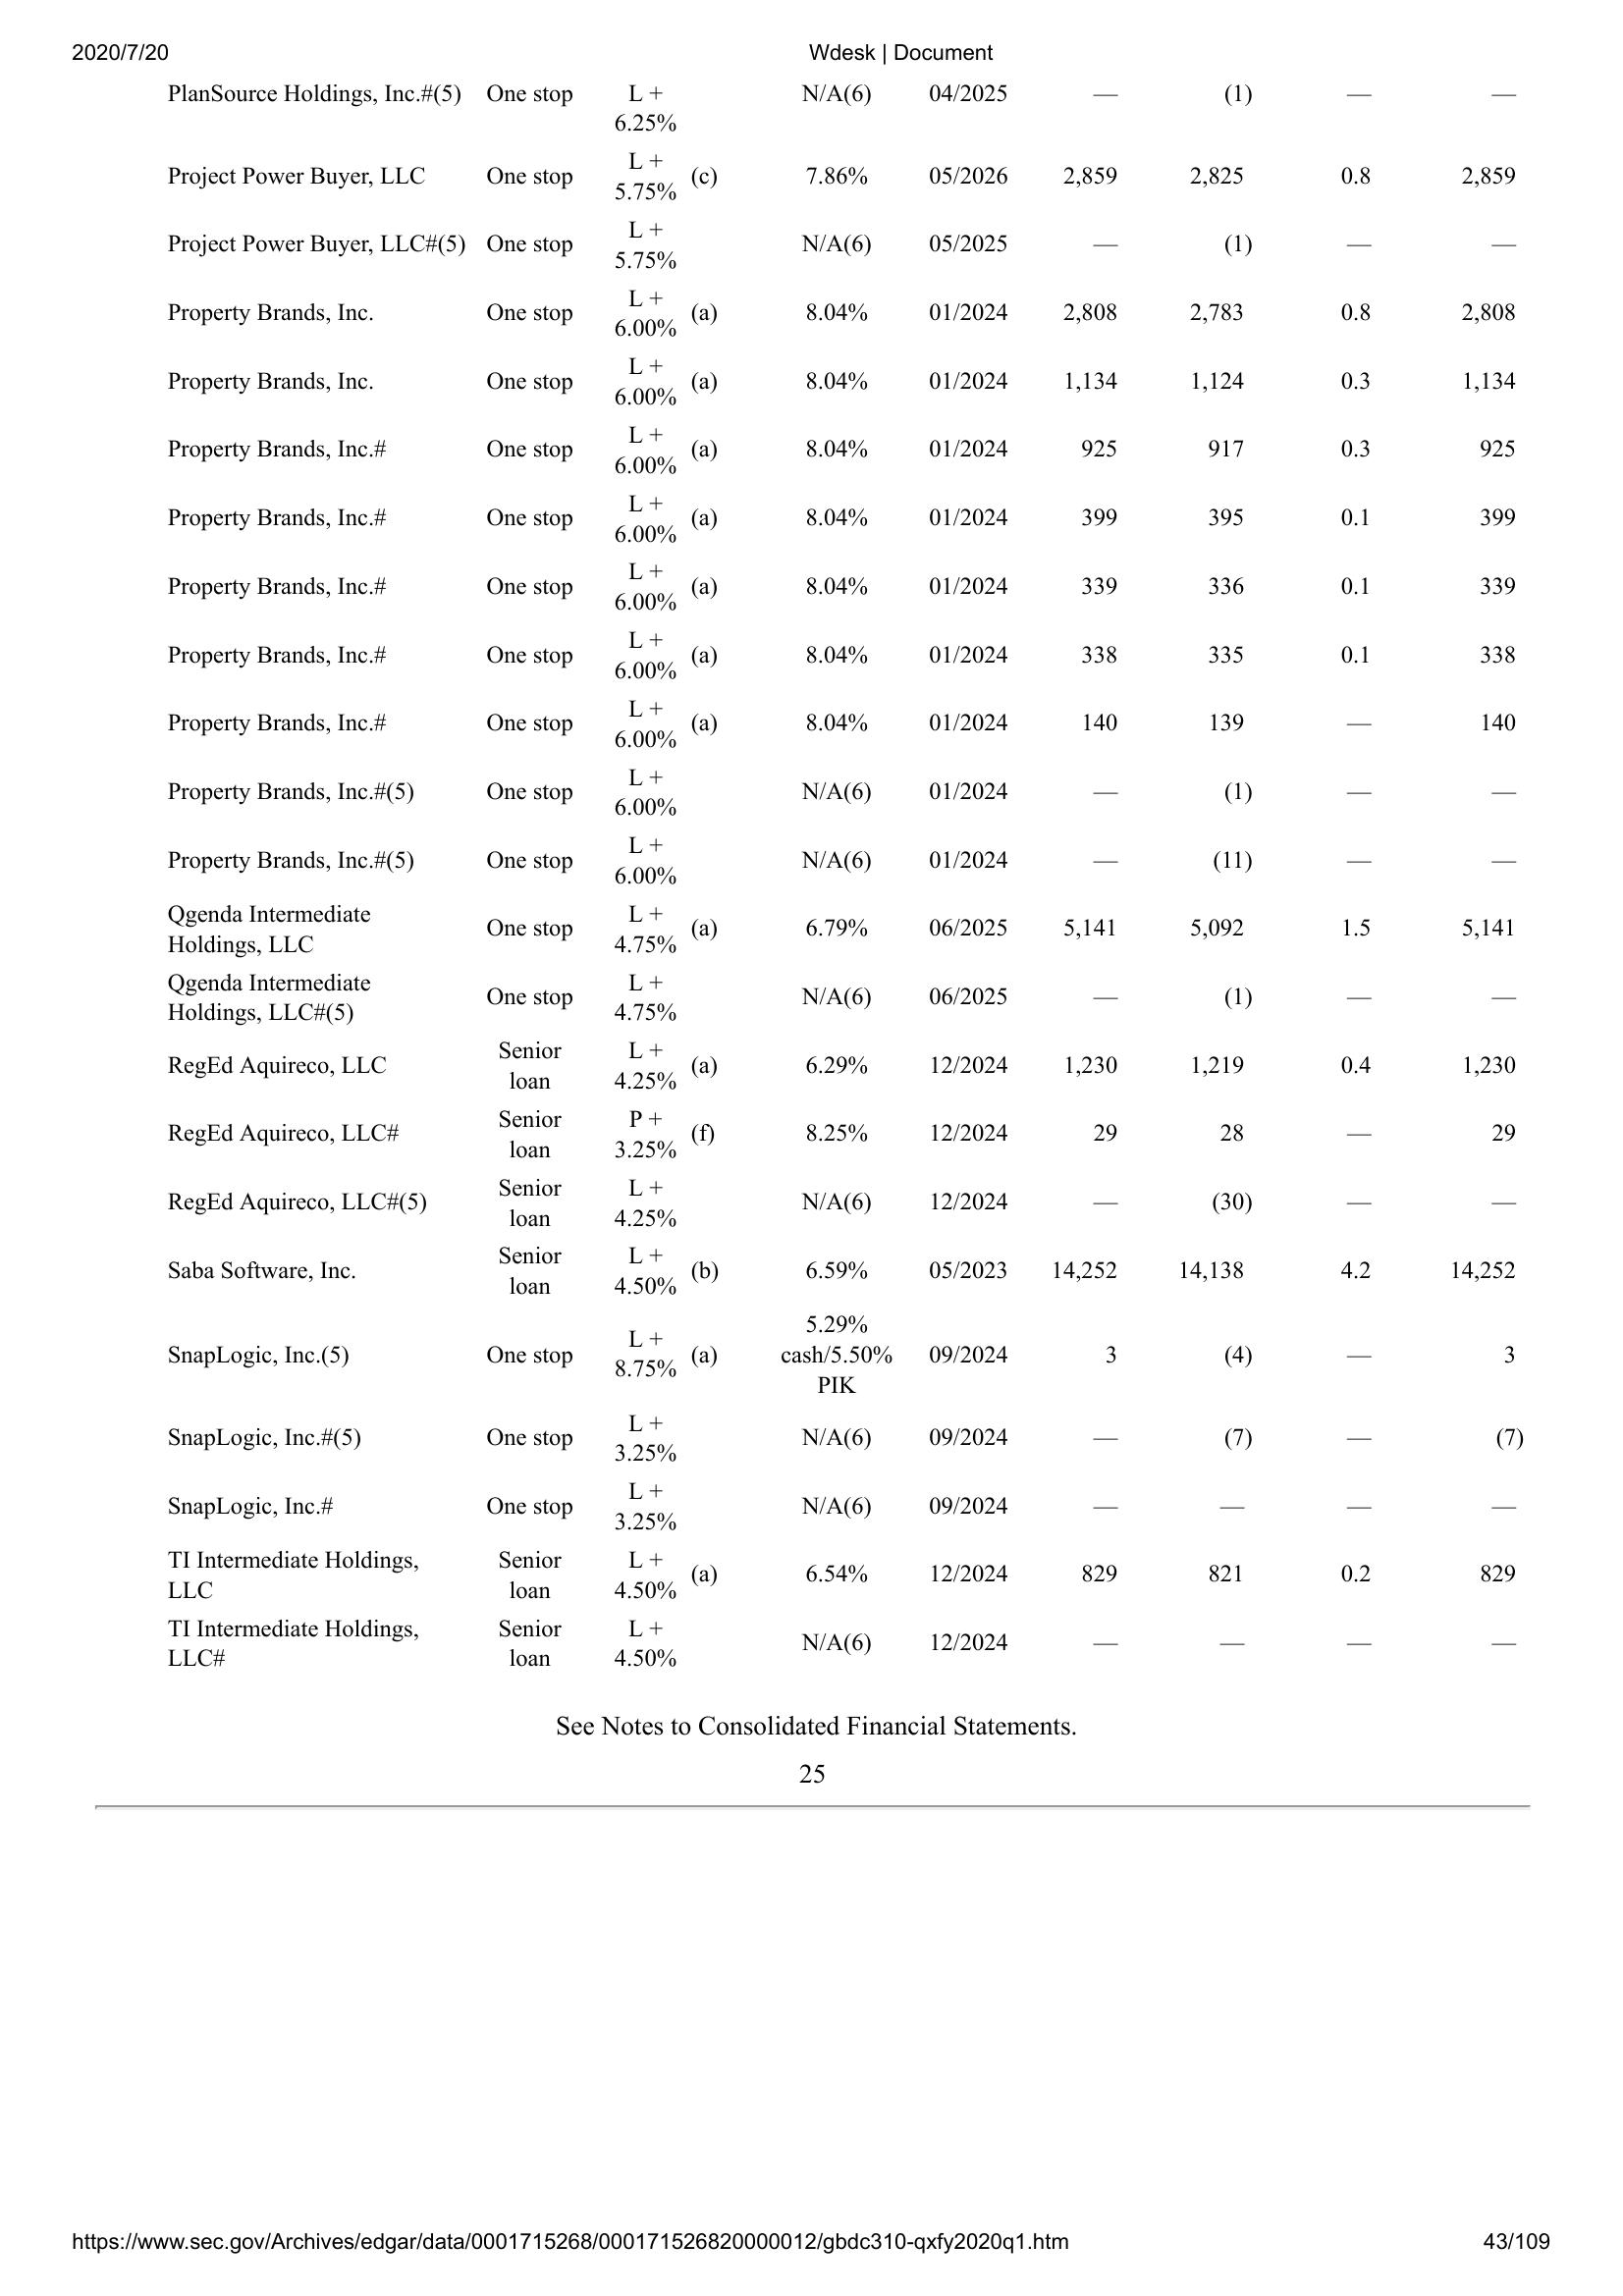table: (155, 65, 1535, 1673)
